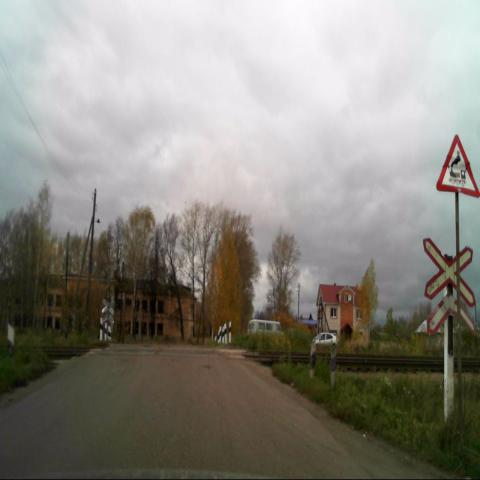1_2: (436, 133, 480, 198)
